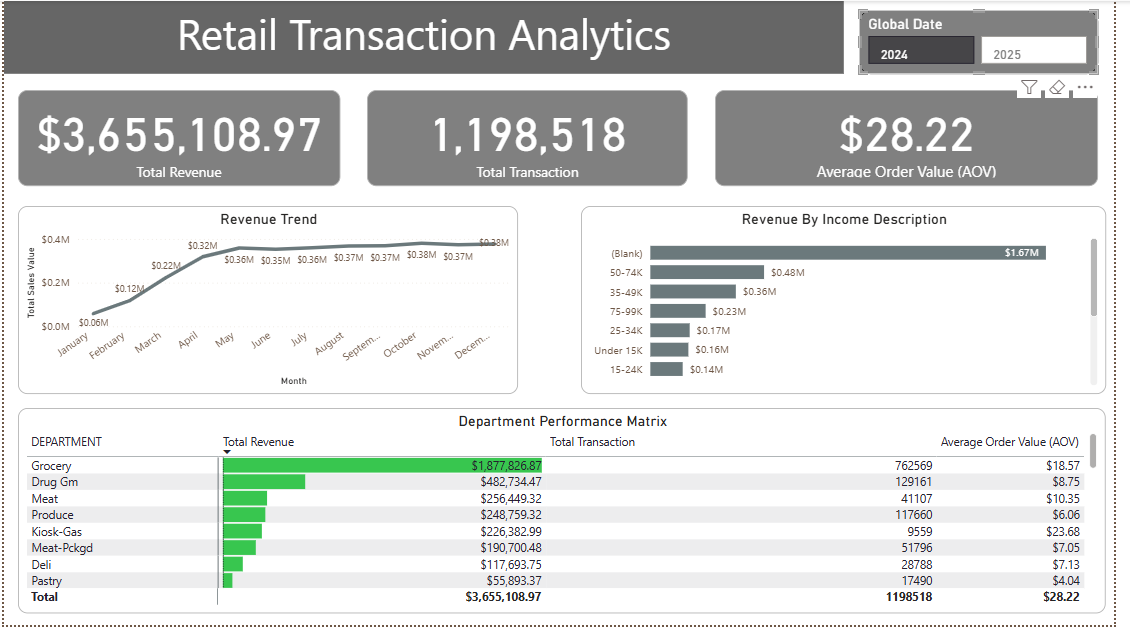

The page's visual inventory and layout, read from the dashboard file:
{"tool":"powerbi","page":{"name":"Page 1","canvas":[1280,720],"ordinal":0},"visuals":[{"type":"textbox","box":[0,0,969.2,84.2],"z":0},{"type":"card","fields":{"Values":["Sum(retail_portfolio transaction_data.SALES_VALUE)"]},"box":[16.2,102.7,371.5,110.8],"z":1000},{"type":"card","fields":{"Values":["retail_portfolio transaction_data.Total Transaction MEASURE"]},"box":[418.8,102.7,370.4,110.8],"z":2000},{"type":"card","fields":{"Values":["retail_portfolio transaction_data.AOV"]},"box":[820.4,102.7,441.9,110.8],"z":3000},{"type":"lineChart","title":"Revenue Trend","fields":{"Category":["retail_portfolio transaction_data.transaction_date.Variation.Date Hierarchy.Month"],"Y":["Sum(retail_portfolio transaction_data.SALES_VALUE)"]},"box":[16.2,236.5,576.9,216.9],"z":4000},{"type":"clusteredBarChart","title":"Revenue By Income Description","fields":{"Category":["retail_portfolio hh_demographic.INCOME_DESC"],"Y":["Sum(retail_portfolio transaction_data.SALES_VALUE)"]},"box":[665.8,236.5,605.8,216.9],"z":5000},{"type":"pivotTable","title":"Department Performance Matrix","fields":{"Rows":["retail_portfolio product.DEPARTMENT"],"Values":["Sum(retail_portfolio transaction_data.SALES_VALUE)","CountNonNull(retail_portfolio transaction_data.BASKET_ID)","retail_portfolio transaction_data.AOV"]},"box":[16.2,469.6,1255.4,236.5],"z":6000},{"type":"advancedSlicerVisual","title":"Global Date","fields":{"Values":["retail_portfolio transaction_data.transaction_date.Variation.Date Hierarchy.Year"]},"box":[986.5,10.4,275.8,73.8],"z":6001}]}

Visuals, with their boxes in screenshot pixels (x1, y1, x2, y2), scaled from the page's 1280x720 canvas onto the 1130x627 screenshot:
textbox: [0,0,856,73]
card - Sum(retail_portfolio transaction_data.SALES_VALUE): [14,89,342,186]
card - retail_portfolio transaction_data.Total Transaction MEASURE: [370,89,697,186]
card - retail_portfolio transaction_data.AOV: [724,89,1114,186]
"Revenue Trend" lineChart: [14,206,524,395]
"Revenue By Income Description" clusteredBarChart: [588,206,1123,395]
"Department Performance Matrix" pivotTable: [14,409,1123,615]
"Global Date" advancedSlicerVisual: [871,9,1114,73]
